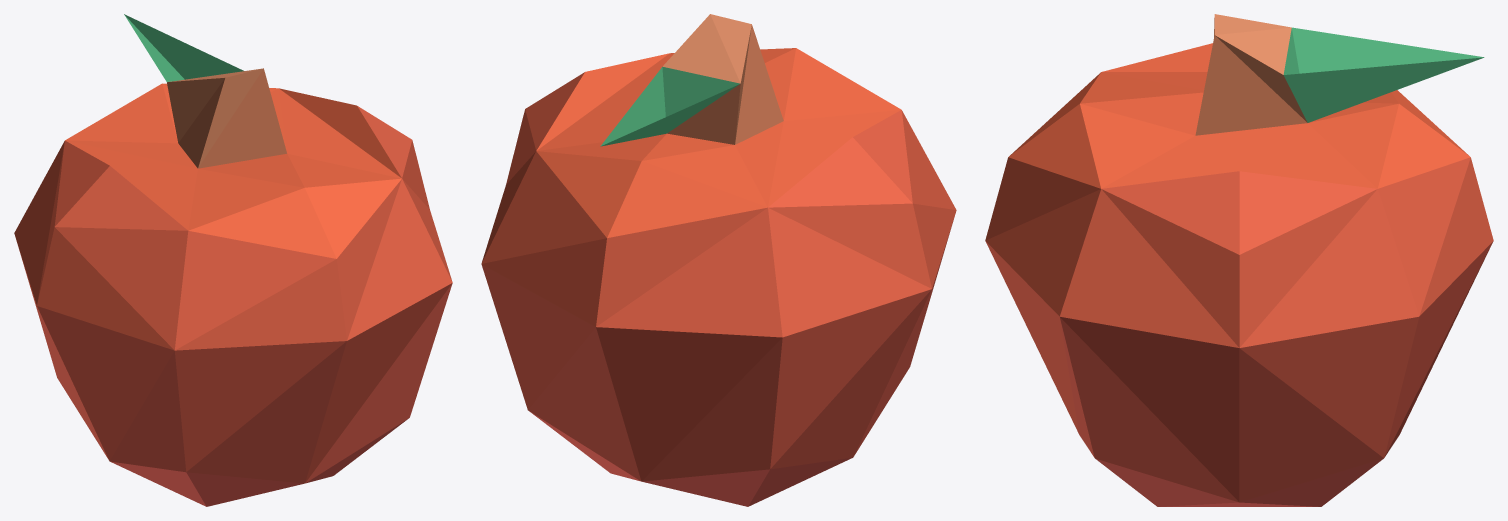
Rendered from apple_vita.obj.
The picture shows the model from 3 angles, left to right: view 1: azimuth 30°, elevation 25°; view 2: azimuth 150°, elevation 25°; view 3: azimuth 270°, elevation 25°; orthographic projection. The views are drawn at different scales.
Size of the model in its own units: 0.1963 by 0.1908 by 0.1963.
1 material, 1 textured.
